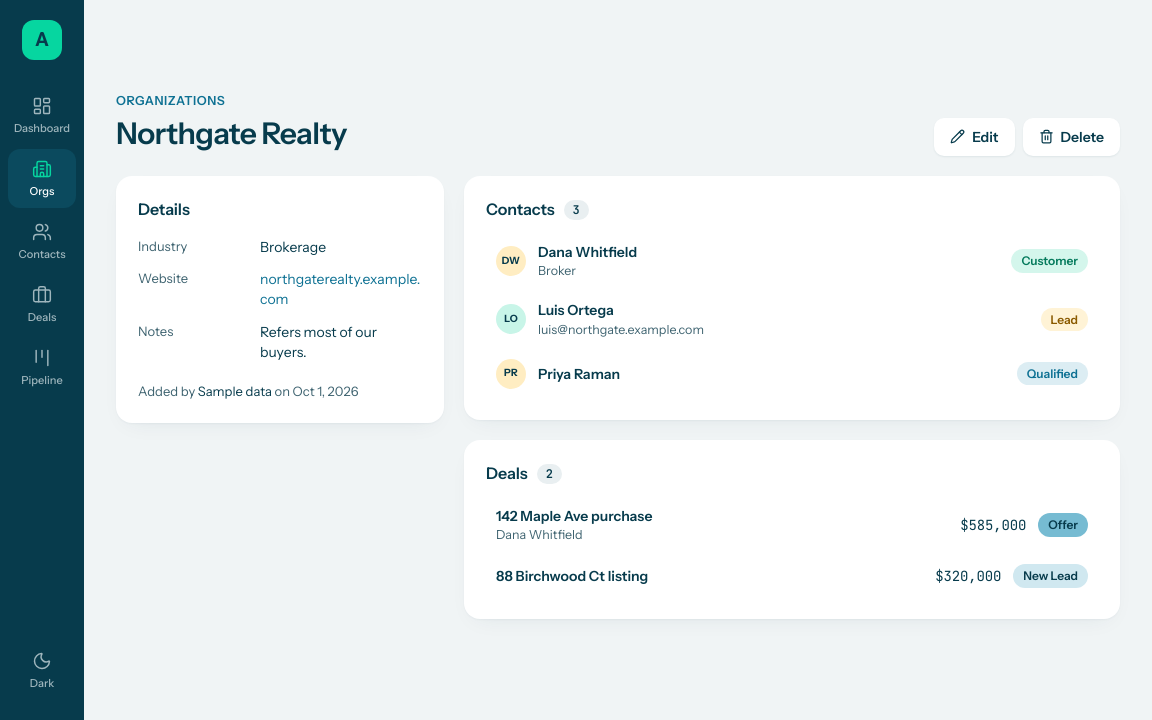
an organization's page › deletes the organization and goes back to the organizations list
This screenshot has width=1152, height=720.
Step 1. Click the button "Delete" → (1071, 137), box [1022,118,1120,156]
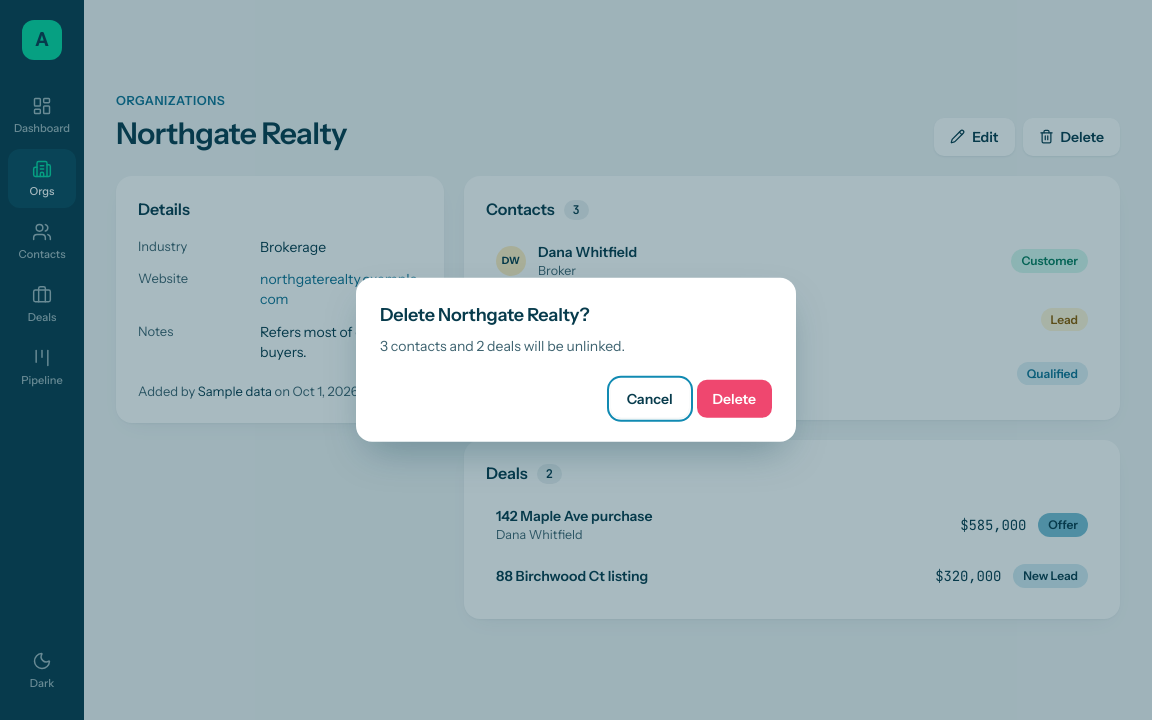
Expected: the text "3 contacts and 2 deals will be unlinked." is shown, [380,337,625,355]
Step 2. Click the button "Delete" → (734, 399), box [696,380,772,418]
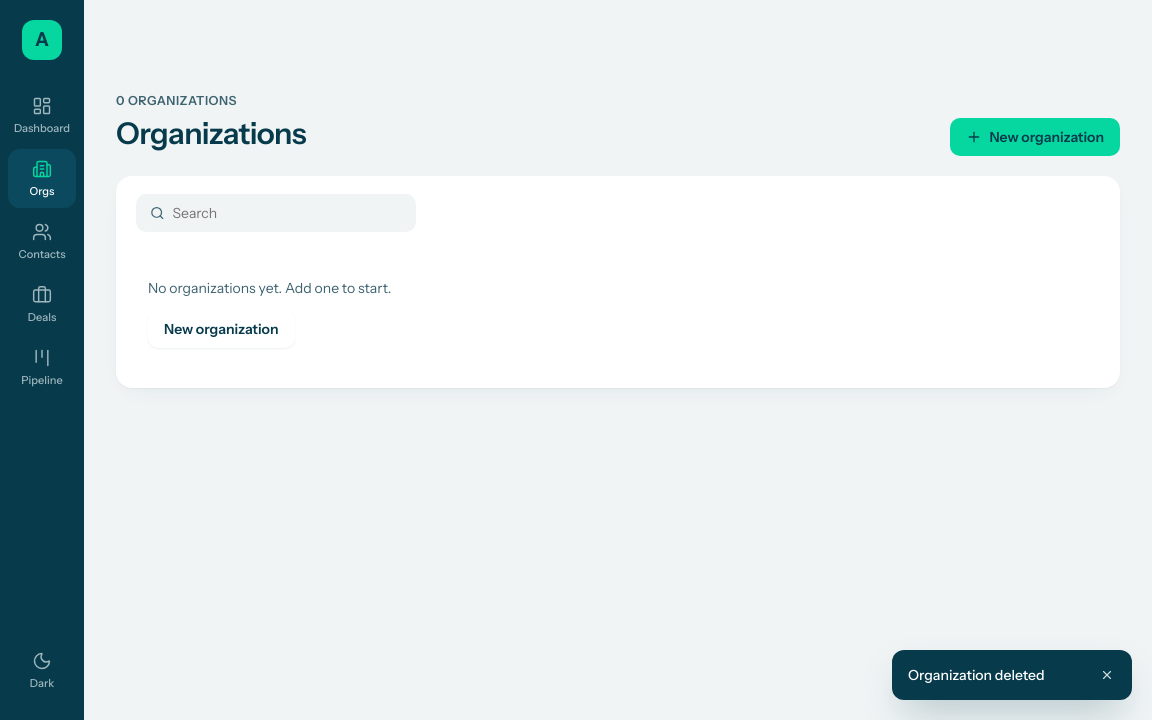
Expected: the heading "Organizations" is shown, [116,112,306,156]
Expected: the text "Organization deleted" is shown, [908,666,1045,684]
